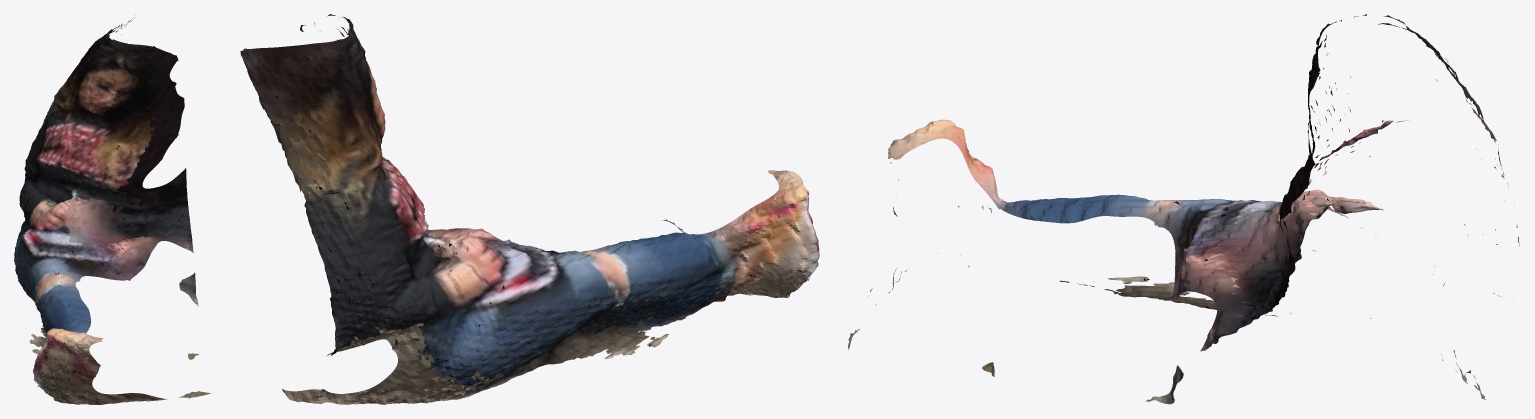
The picture shows the model from 3 angles, left to right: view 1: azimuth 30°, elevation 25°; view 2: azimuth 150°, elevation 25°; view 3: azimuth 270°, elevation 25°; orthographic projection. The views are drawn at different scales.
Size of the model in its own units: 0.8462 by 0.7135 by 1.14.
Materials: 1 (1 with a texture image).
